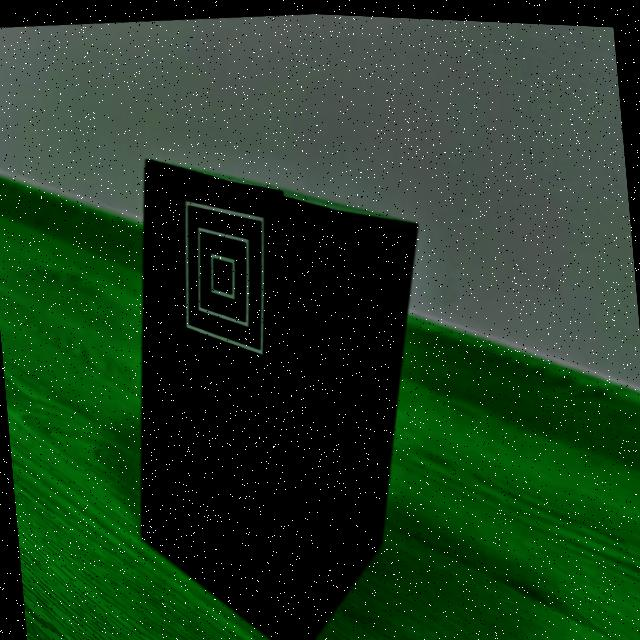BULLSEYE: (171, 168, 284, 386)
